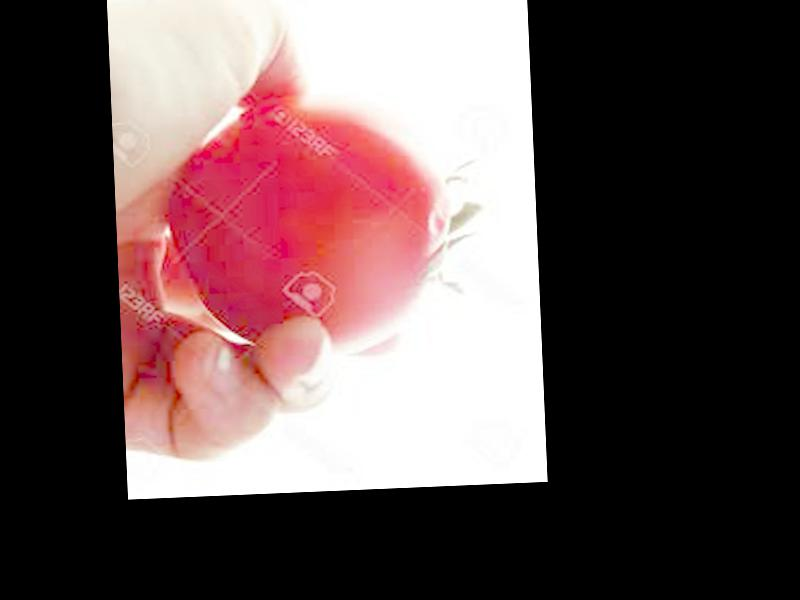Tomato: (168, 93, 459, 363)
